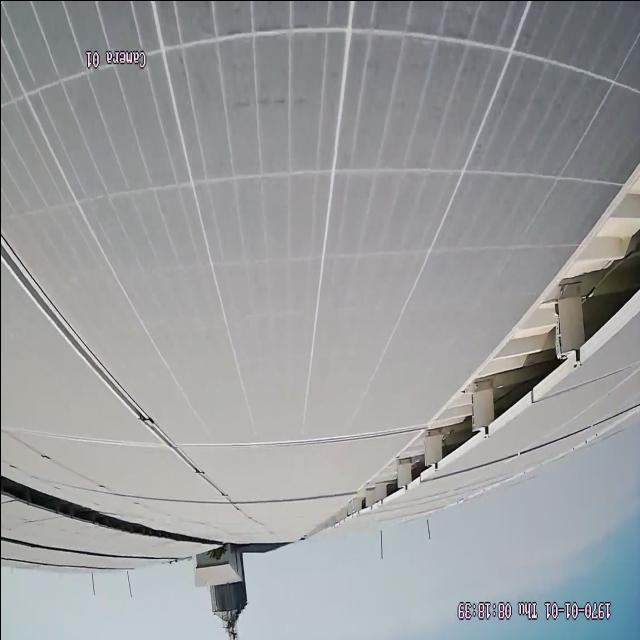interior panel: (1, 247, 214, 481)
outher panel: (318, 148, 640, 529), (2, 477, 193, 542)
